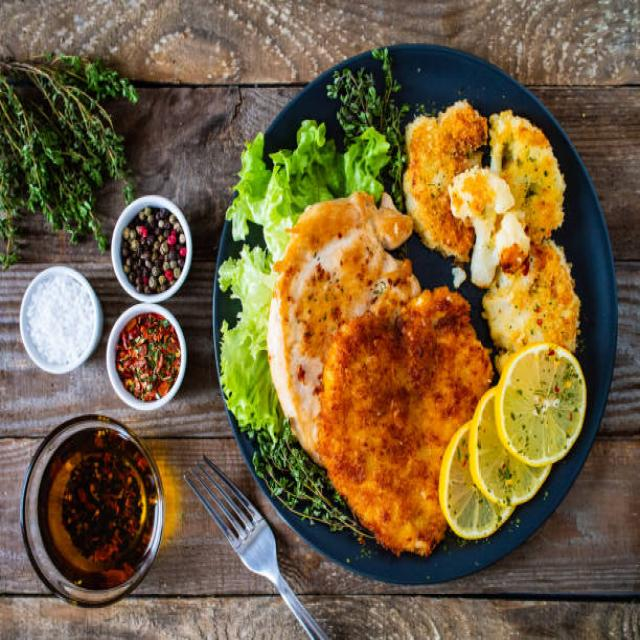Frango: (266, 190, 492, 560)
